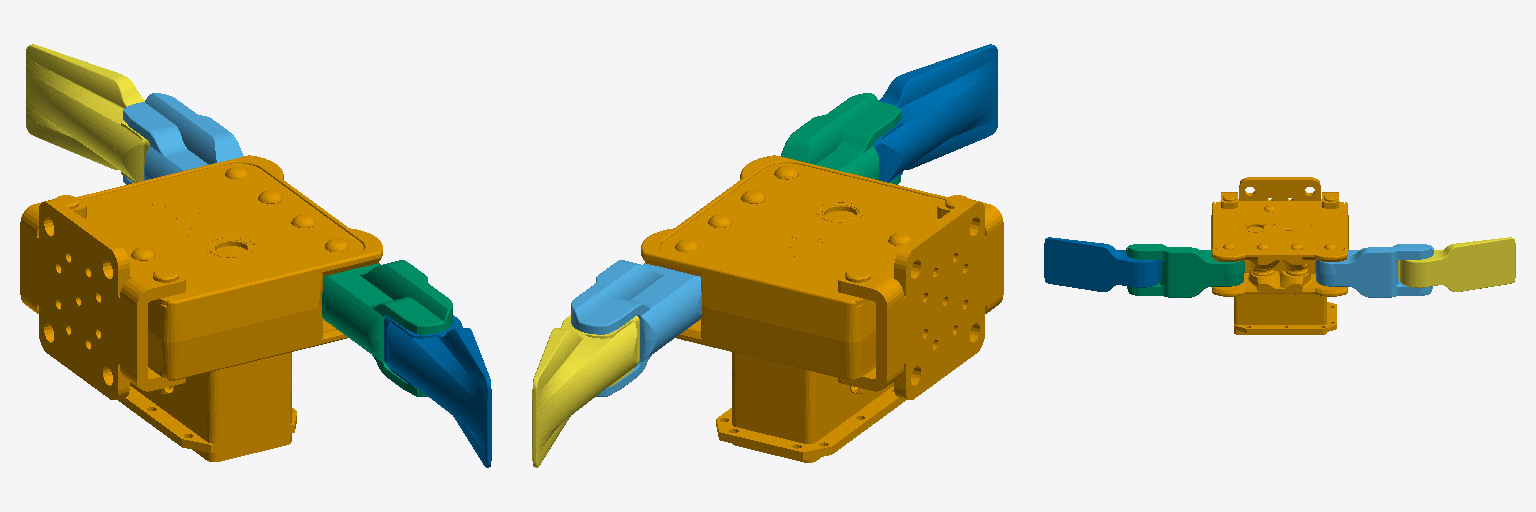
robot.urdf — right_ezgripper_gen2:
<?xml version="1.0" encoding="UTF-8"?>
<robot name="right_ezgripper_gen2">
    <!-- links -->
    <link name="right_ezgripper_palm_link">
        <visual>
            <geometry>
                <mesh filename="package://ezGripper/ezgripper_gen2/SAKE_Palm_Dual_Gen2.obj"/>
            </geometry>
        </visual>
        <collision>
            <geometry>
                <mesh filename="package://ezGripper/ezgripper_gen2/SAKE_Palm_Dual_Gen2.obj"/>
            </geometry>
        </collision>
        <inertial>
            <mass value="0.3"/>
            <inertia ixx="5e-5" ixy="0.0" ixz="0.0" iyy="3e-5" iyz="0.0" izz="3e-5" />
        </inertial>
    </link>

    <link name="right_ezgripper_finger_l1_1">
        <visual>
            <geometry>
                <mesh filename="package://ezGripper/ezgripper_gen2/SAKE_Finger_L1_Gen2.obj"/>
            </geometry>
        </visual>
        <collision>
            <geometry>
                <mesh filename="package://ezGripper/ezgripper_gen2/SAKE_Finger_L1_Gen2.obj"/>
            </geometry>
        </collision>
        <inertial>
            <mass value="0.025"/>
            <inertia ixx="1E-6" ixy="0.0" ixz="0.0" iyy="1E-6" iyz="0.0" izz="3e-7"/>
        </inertial>
    </link>

    <link name="right_ezgripper_finger_l1_2">
        <visual>
            <geometry>
                <mesh filename="package://ezGripper/ezgripper_gen2/SAKE_Finger_L1_Gen2.obj"/>
            </geometry>
        </visual>
        <collision>
            <geometry>
                <mesh filename="package://ezGripper/ezgripper_gen2/SAKE_Finger_L1_Gen2.obj"/>
            </geometry>
        </collision>
        <inertial>
            <mass value="0.025"/>
            <inertia ixx="1E-6" ixy="0.0" ixz="0.0" iyy="1E-6" iyz="0.0" izz="3e-7"/>
        </inertial>
    </link>

    <link name="right_ezgripper_finger_l2_1">
        <visual>
            <geometry>
                <mesh filename="package://ezGripper/ezgripper_gen2/SAKE_Finger_L2_Gen2.obj"/>
            </geometry>
        </visual>
        <collision>
            <origin xyz="0 0 0" rpy="0 0 0"/>
            <geometry>
                <mesh filename="package://ezGripper/ezgripper_gen2/SAKE_Finger_L2_Gen2.obj"/>
            </geometry>
        </collision>
        <inertial>
            <mass value=".025"/>
            <inertia ixx="1E-6" ixy="0.0" ixz="0.0" iyy="1E-6" iyz="0.0" izz="3e-7"/>
        </inertial>
    </link>

    <link name="right_ezgripper_finger_l2_2">
        <visual>
            <geometry>
                <mesh filename="package://ezGripper/ezgripper_gen2/SAKE_Finger_L2_Gen2.obj"/>
            </geometry>
        </visual>
        <collision>
            <origin xyz="0 0 0" rpy="0 0 0"/>
            <geometry>
                <mesh filename="package://ezGripper/ezgripper_gen2/SAKE_Finger_L2_Gen2.obj"/>
            </geometry>
        </collision>
        <inertial>
            <mass value=".025"/>
            <inertia ixx="1E-6" ixy="0.0" ixz="0.0" iyy="1E-6" iyz="0.0" izz="3e-7"/>
        </inertial>
    </link>

    <!-- joints -->
    <joint name="right_ezgripper_knuckle_palm_l1_1" type="revolute">
        <parent link="right_ezgripper_palm_link"/>
        <child link="right_ezgripper_finger_l1_1"/>
        <origin xyz="0.072569 0.03 0" rpy="-1.5708 0 1.57075"/>
        <axis xyz="0 1 0"/>
        <limit lower="0" upper="1.94" effort="1" velocity="3.67"/>
    </joint>

    <joint name="right_ezgripper_knuckle_palm_l1_2" type="revolute">
        <parent link="right_ezgripper_palm_link"/>
        <child link="right_ezgripper_finger_l1_2"/>
        <origin xyz="0.072569 -0.03 0" rpy="1.5708 0 -1.57075"/>
        <axis xyz="0 1 0"/>
        <limit lower="0" upper="1.94" effort="1" velocity="3.67"/>
        <mimic joint="right_ezgripper_knuckle_palm_l1_1"/>
    </joint>

    <joint name="right_ezgripper_knuckle_l1_l2_1" type="revolute">
        <parent link="right_ezgripper_finger_l1_1"/>
        <child link="right_ezgripper_finger_l2_1"/>
        <origin xyz="0.052 0 0" rpy="0 0 0"/>
        <!-- origin xyz="0.06 0 0" rpy="${3.14159 * reflectR} 0 0"/-->
        <axis xyz="0 1 0"/>
        <limit lower="0" upper="1.94" effort="1" velocity="3.67"/>
    </joint>

    <joint name="right_ezgripper_knuckle_l1_l2_2" type="revolute">
        <parent link="right_ezgripper_finger_l1_2"/>
        <child link="right_ezgripper_finger_l2_2"/>
        <origin xyz="0.052 0 0" rpy="0 0 0"/>
        <!-- origin xyz="0.06 0 0" rpy="${3.14159 * reflectR} 0 0"/-->
        <axis xyz="0 1 0"/>
        <limit lower="0" upper="1.94" effort="1" velocity="3.67"/>
        <mimic joint="right_ezgripper_knuckle_l1_l2_1"/>
    </joint>

    <!-- transmissions for Gazebo -->
    <transmission name="right_ezgripper_trans_l1_l2_1">
        <type>transmission_interface/SimpleTransmission</type>
        <joint name="right_ezgripper_knuckle_l1_l2_1">
            <hardwareInterface>hardware_interface/PositionJointInterface</hardwareInterface>
        </joint>
        <actuator name="right_ezgripper_motorl1_l2_1">
            <mechanicalReduction>1</mechanicalReduction>
            <hardwareInterface>hardware_interface/PositionJointInterface</hardwareInterface>
        </actuator>
    </transmission>

    <gazebo>
        <plugin name="joint_state_publisher" filename="libgazebo_ros_joint_state_publisher.so">
            <jointName>right_ezgripper_knuckle_l1_l2_1,right_ezgripper_knuckle_l1_l2_2</jointName>
        </plugin>
    </gazebo>

    <gazebo>
        <plugin name="gazebo_ros_control" filename="libgazebo_ros_control.so">
        </plugin>
    </gazebo>
</robot>

--- Render facts (derived) ---
The picture shows the robot from 3 angles, left to right: view 1: azimuth 30°, elevation 25°; view 2: azimuth 150°, elevation 25°; view 3: azimuth 270°, elevation 25°; orthographic projection.
Model right_ezgripper_gen2 with 5 links and 4 joints (4 revolute), rooted at right_ezgripper_palm_link, posed every joint at zero.
Visible links, largest first — view 1: right_ezgripper_palm_link, right_ezgripper_finger_l2_1, right_ezgripper_finger_l1_2, right_ezgripper_finger_l2_2, right_ezgripper_finger_l1_1; view 2: right_ezgripper_palm_link, right_ezgripper_finger_l2_2, right_ezgripper_finger_l1_1, right_ezgripper_finger_l2_1, right_ezgripper_finger_l1_2; view 3: right_ezgripper_palm_link, right_ezgripper_finger_l2_1, right_ezgripper_finger_l2_2, right_ezgripper_finger_l1_2, right_ezgripper_finger_l1_1.
Link boxes in pixels (x1,y1,x2,y2): right_ezgripper_palm_link: [20, 155, 382, 461]; right_ezgripper_finger_l2_1: [26, 44, 149, 182]; right_ezgripper_finger_l1_2: [322, 260, 452, 396]; right_ezgripper_finger_l2_2: [384, 315, 491, 467]; right_ezgripper_finger_l1_1: [123, 93, 242, 184]; right_ezgripper_palm_link: [641, 155, 1003, 462]; right_ezgripper_finger_l2_2: [874, 44, 997, 182]; right_ezgripper_finger_l1_1: [571, 260, 701, 396]; right_ezgripper_finger_l2_1: [532, 315, 639, 467]; right_ezgripper_finger_l1_2: [781, 93, 900, 184]; right_ezgripper_palm_link: [1211, 177, 1348, 334]; right_ezgripper_finger_l2_1: [1398, 237, 1515, 291]; right_ezgripper_finger_l2_2: [1044, 237, 1161, 291]; right_ezgripper_finger_l1_2: [1126, 244, 1244, 297]; right_ezgripper_finger_l1_1: [1315, 244, 1433, 297].
Size in the robot's own frame: 0.0865 by 0.2788 by 0.075 metres.
Meshes: 3 distinct files referenced, 5 mesh visuals loaded (3 OBJ).
